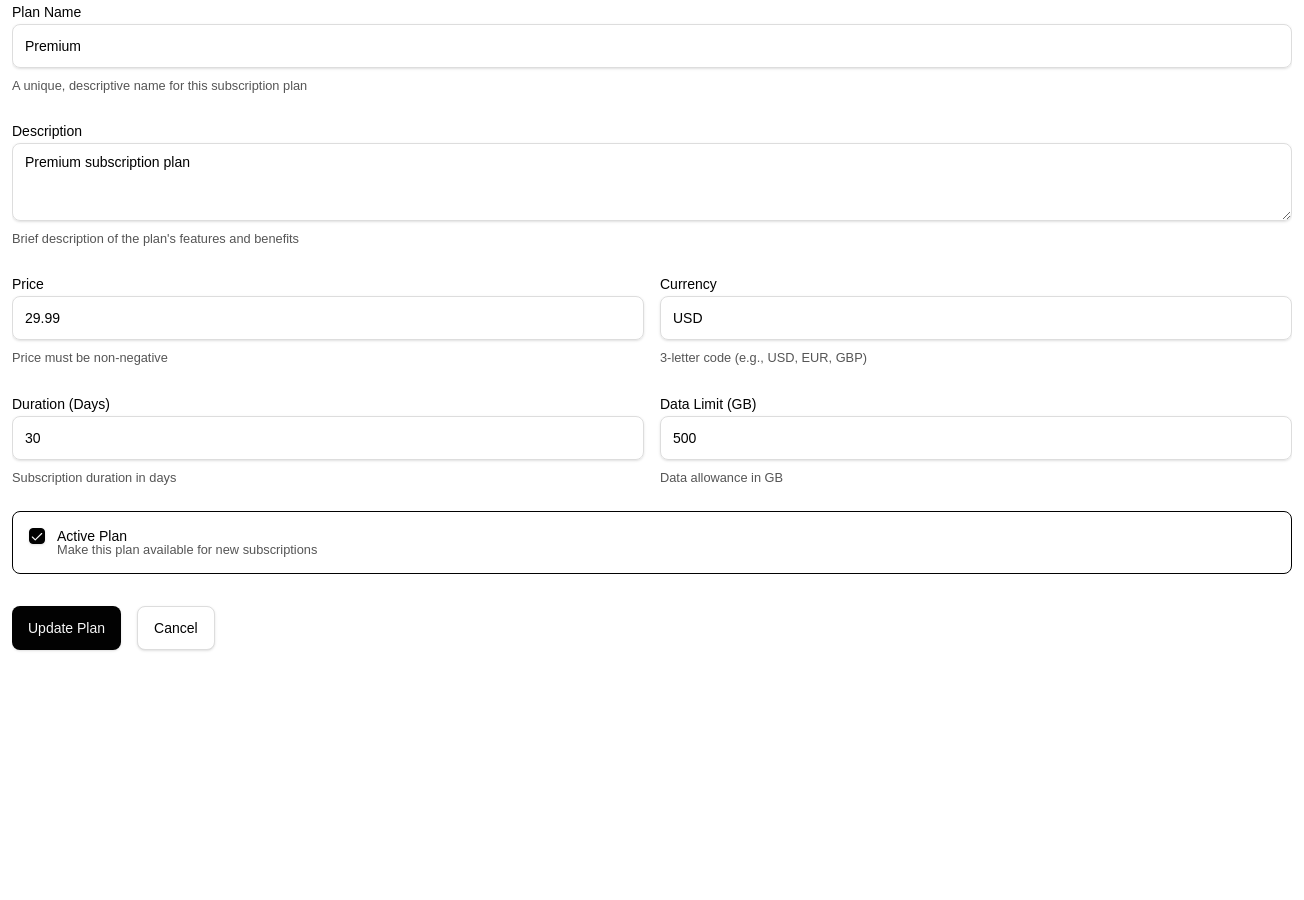
Scenario: PlanEditForm › validates description is required
This screenshot has width=1304, height=900.
Clear the text box labelled "Description" at [652, 182], box [12, 143, 1292, 221]
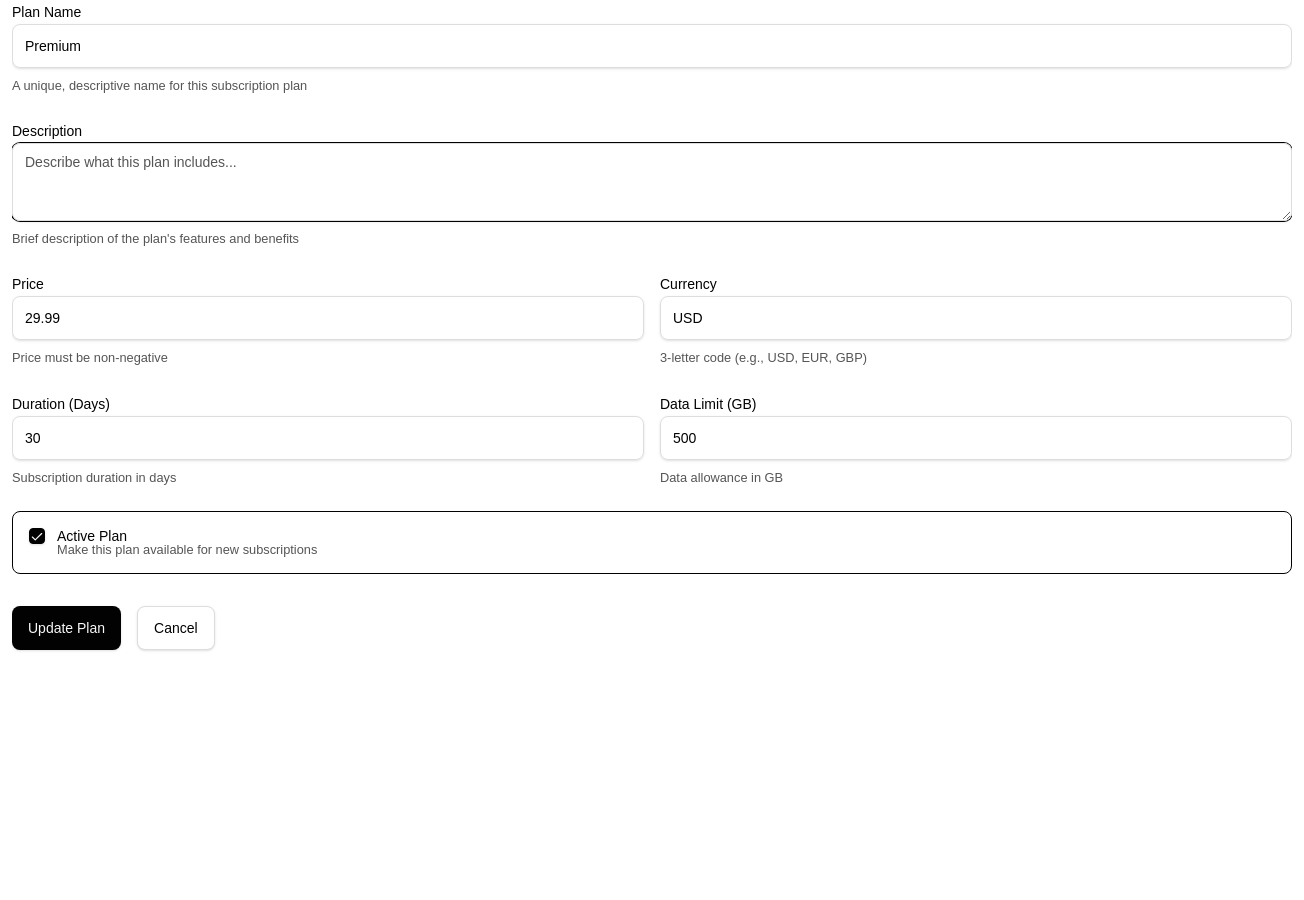
Click the button "Update Plan" at [67, 628], box [12, 606, 121, 650]
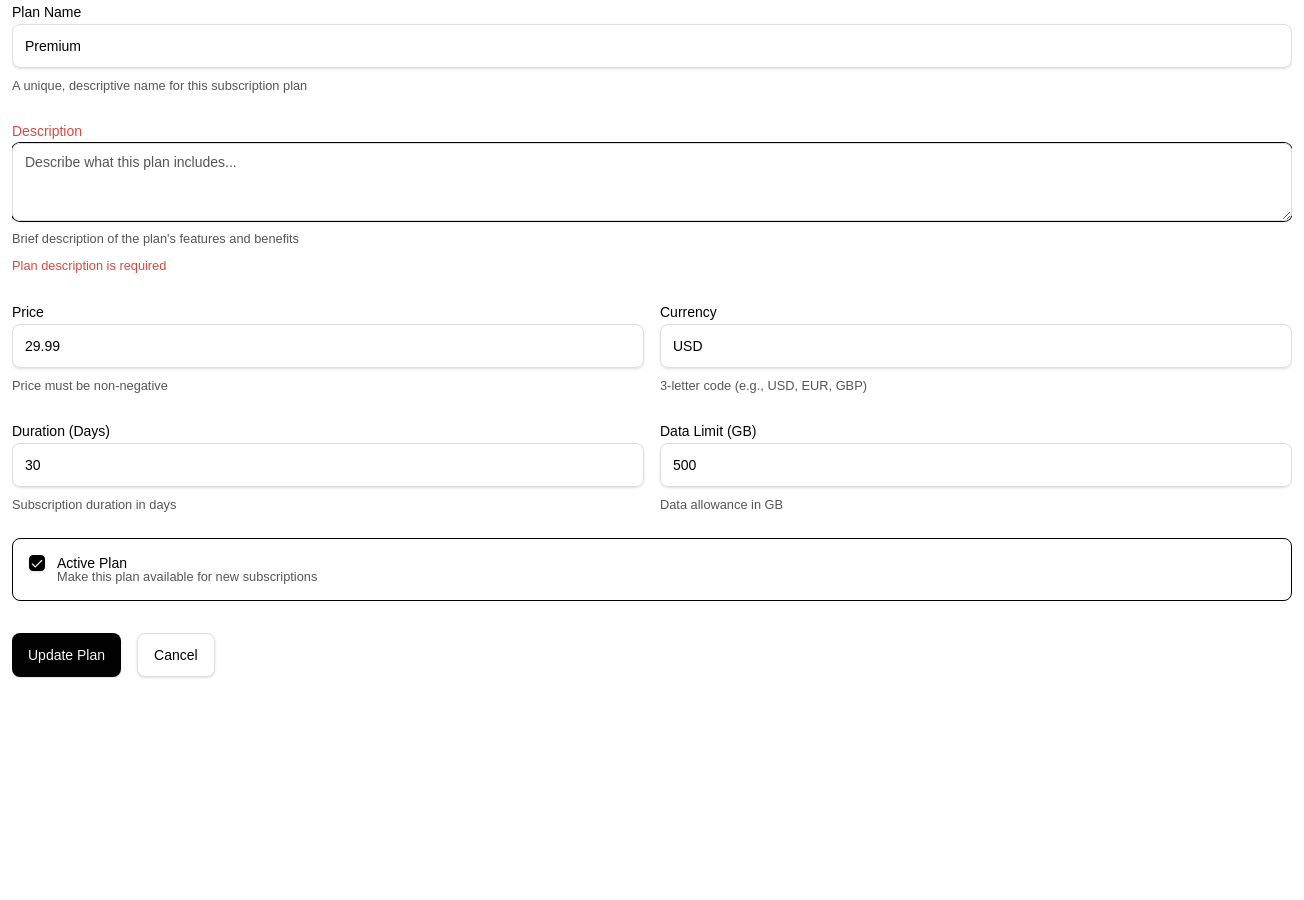
expect the text "Plan description is required" is shown: met, box [12, 258, 166, 273]
